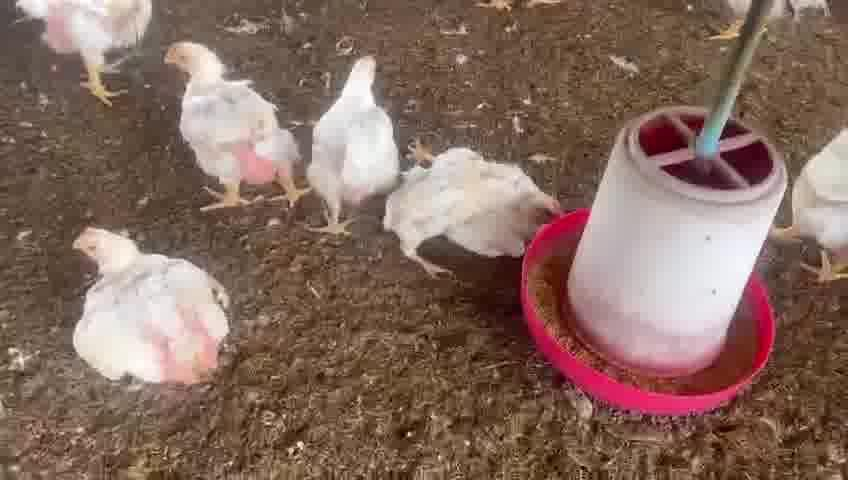AbNormal: (70, 228, 229, 387), (393, 132, 550, 274)
Normal: (161, 40, 312, 210), (18, 0, 157, 105), (316, 53, 393, 241), (789, 127, 848, 284)
